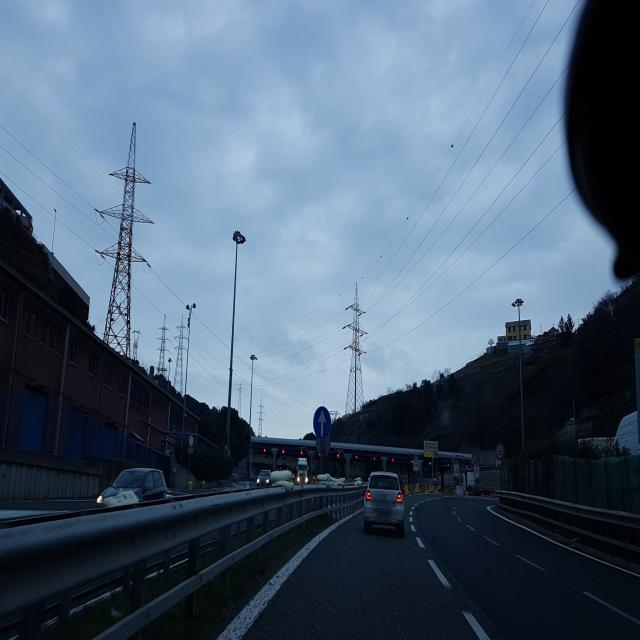car: (95, 466, 169, 510), (363, 469, 405, 538), (267, 469, 295, 491), (466, 481, 493, 496), (255, 469, 272, 488), (315, 472, 336, 486)
